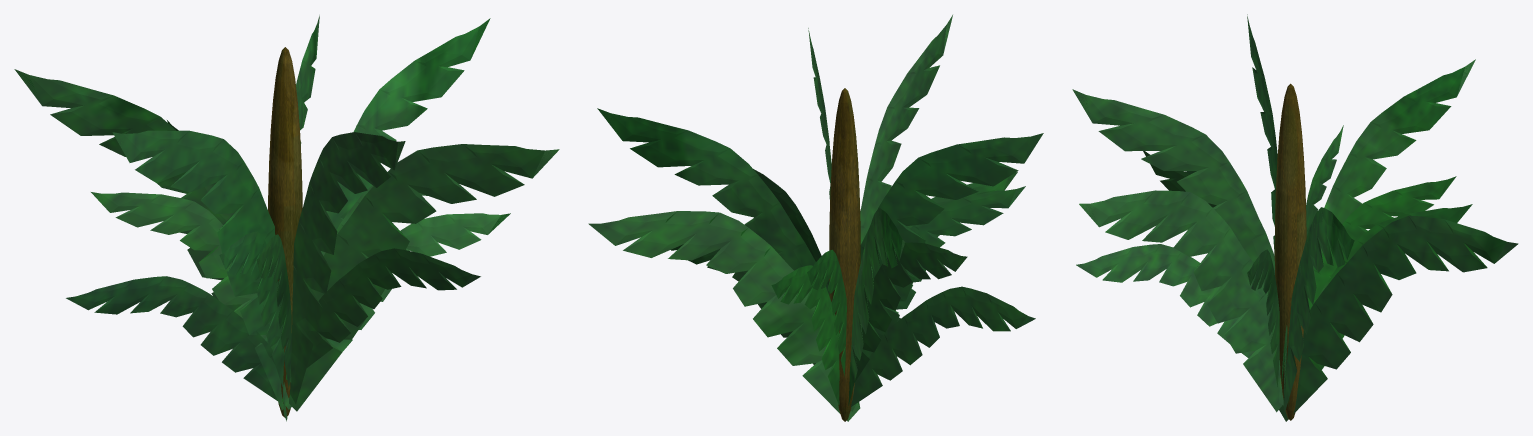
The model's file is SM_plant01.fbx.
3 renders of one model, left to right at view 1: azimuth 30°, elevation 25°; view 2: azimuth 150°, elevation 25°; view 3: azimuth 270°, elevation 25°, orthographic. The views are drawn at different scales.
Parts seen in each view (by area): view 1: Plane.004; view 2: Plane.004; view 3: Plane.004.
Boxes of the visible parts, x1,y1,x2,y2 form: Plane.004: (14, 15, 559, 421); Plane.004: (588, 15, 1043, 421); Plane.004: (1072, 14, 1518, 421).
Bounding box in the file's own units: 249 × 194 × 232.
